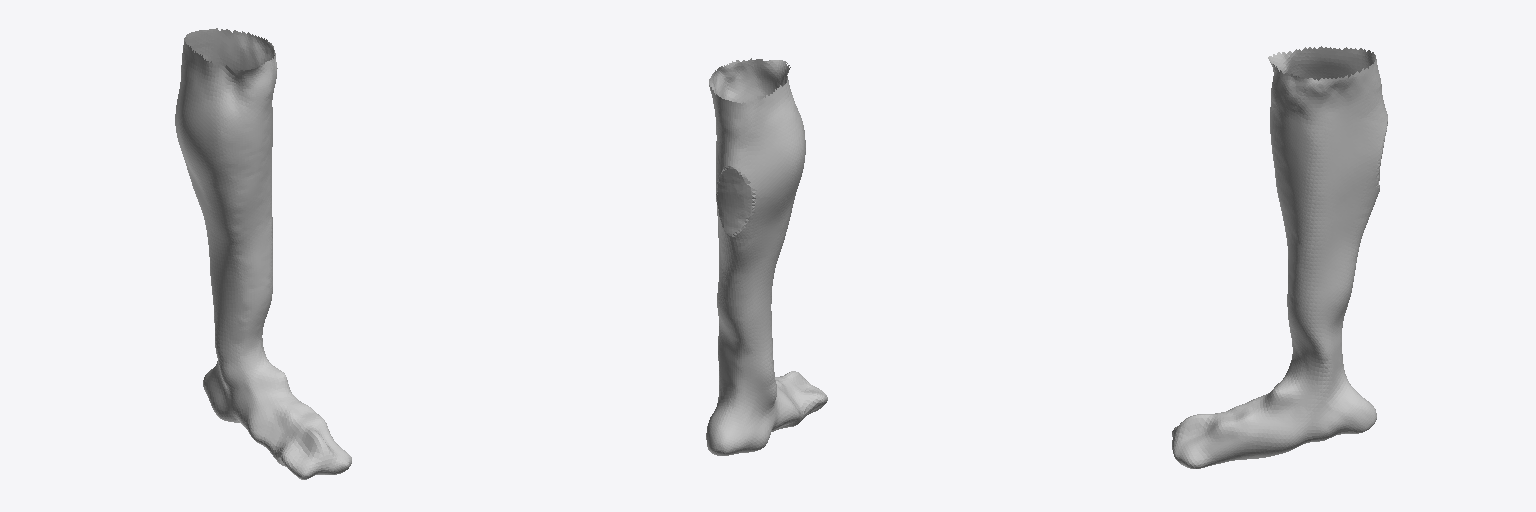
Rendered from leglowerB.obj.
The picture shows the model from 3 angles: view 1: azimuth 30°, elevation 25°; view 2: azimuth 150°, elevation 25°; view 3: azimuth 270°, elevation 25°; orthographic projection.
Visible parts, largest first — view 1: polySurface1 alien_12:alien; view 2: polySurface1 alien_12:alien; view 3: polySurface1 alien_12:alien.
Boxes of the visible parts, <box> form: polySurface1 alien_12:alien: <box>175,28,351,479</box>; polySurface1 alien_12:alien: <box>706,58,827,455</box>; polySurface1 alien_12:alien: <box>1172,46,1387,468</box>.
Size of the model in its own units: 0.6114 by 2.21 by 1.11.